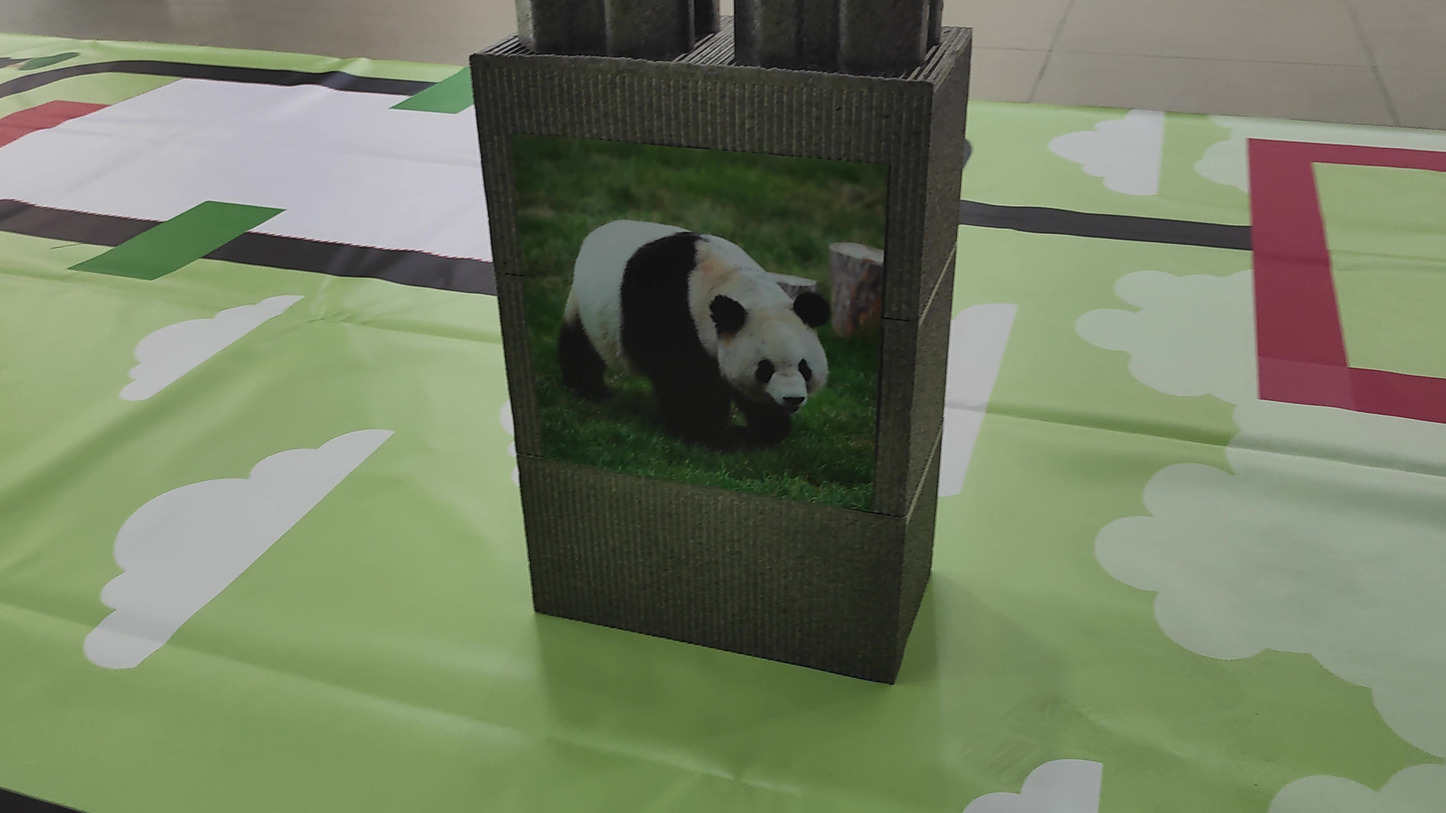panda: (527, 204, 853, 474)
